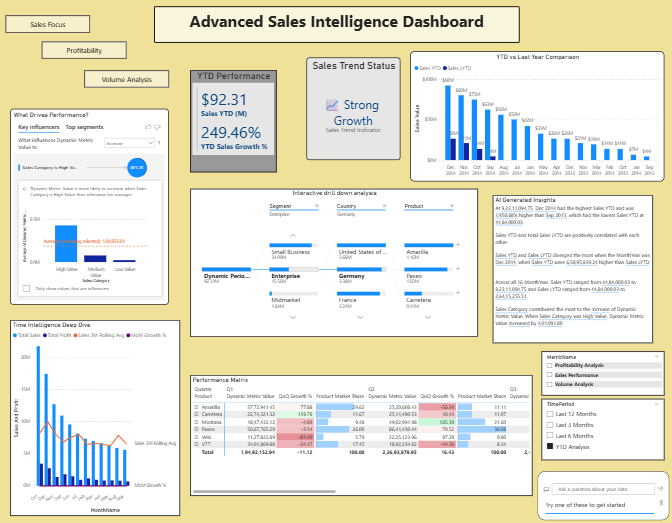

This screenshot's page, from the dashboard's own definition file:
{"tool":"powerbi","page":{"name":"Sales Dashboard","canvas":[1800,1400],"ordinal":0},"visuals":[{"type":"textbox","box":[412.5,15,975,97.5],"z":0},{"type":"card","title":"Sales Trend Status","fields":{"Values":["Bussiness Intelligence measures.Sales Trend Indicator"]},"box":[820,153.3,250,273.3],"z":1000},{"type":"clusteredColumnChart","title":"YTD vs Last Year Comparison","fields":{"Category":["TimeIntelligence DateTable.MonthYear"],"Y":["Time Intelligence Measures.Sales YTD","Time Intelligence Measures.Sales LYTD"]},"box":[1097.5,135,677.5,347.5],"z":2000},{"type":"keyDriversVisual","title":"What Drives Performance?","fields":{"Target":["Dynamic toggle measures.Dynamic Metric Value"],"ExplainBy":["Sheet1.Segment","Sheet1.Country","Sheet1.Product","Sheet1.Product Tier","Sheet1.Sales Category"],"Details":["TimeIntelligence DateTable.Quarter","TimeIntelligence DateTable.Month"]},"box":[30,290,422.5,522.5],"z":3000},{"type":"decompositionTreeVisual","title":"Interactive drill down analysis","fields":{"Analyze":["Dynamic toggle measures.Dynamic Period Sales"],"ExplainBy":["Sheet1.Segment","Sheet1.Country","Sheet1.Product","Sheet1.Product Tier"]},"box":[510,502.5,767.5,395],"z":4000},{"type":"textbox","title":"AI Generated Insights","box":[1317.5,520,427.5,395],"z":5000},{"type":"lineClusteredColumnComboChart","title":"Time Intelligence Deep Dive","fields":{"Category":["TimeIntelligence DateTable.MonthName"],"Y":["measure.Total Sales","measure.Total Profit"],"Y2":["Time Intelligence Measures.Sales 3M Rolling Avg","Time Intelligence Measures.MoM Growth %"]},"box":[30,852.5,452.5,522.5],"z":6000},{"type":"pivotTable","title":"Performance Matrix","fields":{"Rows":["Sheet1.Product","Sheet1.Product Tier"],"Columns":["TimeIntelligence DateTable.Quarter"],"Values":["Dynamic toggle measures.Dynamic Metric Value","Time Intelligence Measures.QoQ Growth %","Bussiness Intelligence measures.Product Market Share"]},"box":[510,1000,912.5,322.5],"z":7000},{"type":"slicer","fields":{"Values":["MetricToggle.MetricName"]},"box":[1448,936,328,118],"z":8000},{"type":"slicer","fields":{"Values":["TimeToggle.TimePeriod"]},"box":[1448,1064,328,164],"z":9000},{"type":"qnaVisual","box":[1437.5,1257.5,350,130],"z":10000},{"type":"multiRowCard","title":"YTD Performance","fields":{"Values":["Time Intelligence Measures.Sales YTD (M)","Time Intelligence Measures.YTD Sales Growth %"]},"box":[510,185,230,272.5],"z":11000},{"type":"actionButton","box":[15,38.3,226.7,48.3],"z":12000},{"type":"actionButton","box":[112.5,110,227.5,47.5],"z":13000},{"type":"actionButton","box":[225,185,227.5,47.5],"z":14000}]}

Visuals, with their boxes in screenshot pixels (x1, y1, x2, y2), scaled from the page's 1800x1400 canvas onto the 672x523 screenshot:
textbox: <bbox>154, 6, 518, 42</bbox>
"Sales Trend Status" card: <bbox>306, 57, 399, 159</bbox>
"YTD vs Last Year Comparison" clusteredColumnChart: <bbox>410, 50, 663, 180</bbox>
"What Drives Performance?" keyDriversVisual: <bbox>11, 108, 169, 304</bbox>
"Interactive drill down analysis" decompositionTreeVisual: <bbox>190, 188, 477, 335</bbox>
"AI Generated Insights" textbox: <bbox>492, 194, 651, 342</bbox>
"Time Intelligence Deep Dive" lineClusteredColumnComboChart: <bbox>11, 318, 180, 514</bbox>
"Performance Matrix" pivotTable: <bbox>190, 374, 531, 494</bbox>
slicer - MetricToggle.MetricName: <bbox>541, 350, 663, 394</bbox>
slicer - TimeToggle.TimePeriod: <bbox>541, 397, 663, 459</bbox>
qnaVisual: <bbox>537, 470, 667, 518</bbox>
"YTD Performance" multiRowCard: <bbox>190, 69, 276, 171</bbox>
actionButton: <bbox>6, 14, 90, 32</bbox>
actionButton: <bbox>42, 41, 127, 59</bbox>
actionButton: <bbox>84, 69, 169, 87</bbox>
